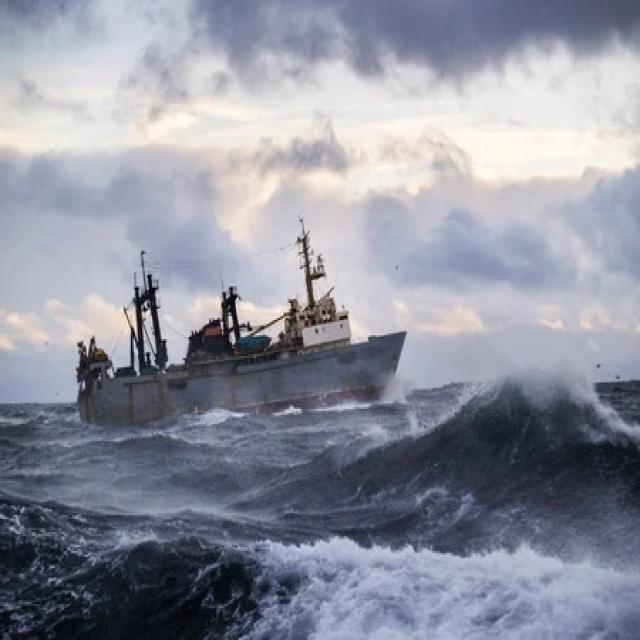fishing boat: (72, 233, 420, 423)
